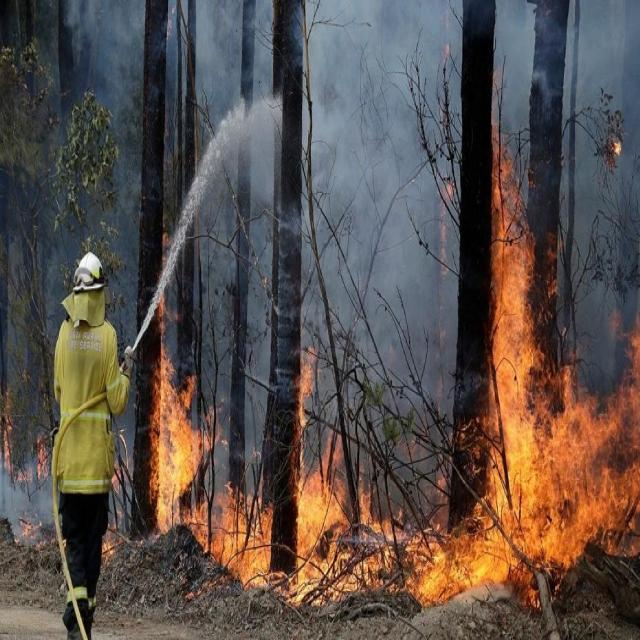Fire: (424, 152, 638, 604), (152, 223, 274, 590), (294, 346, 404, 600), (4, 387, 46, 486)
